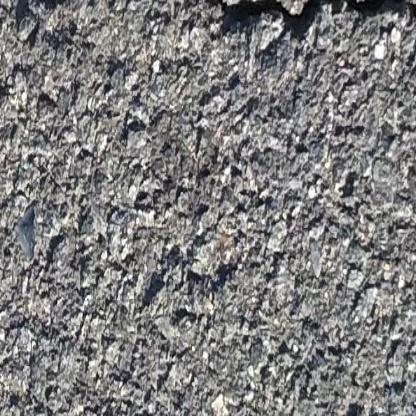Cracks: (200, 0, 416, 45), (10, 0, 84, 8), (118, 0, 155, 4)
